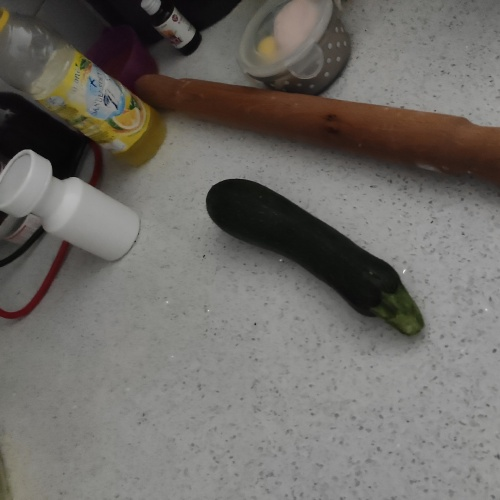zucchine: (206, 177, 427, 341)
